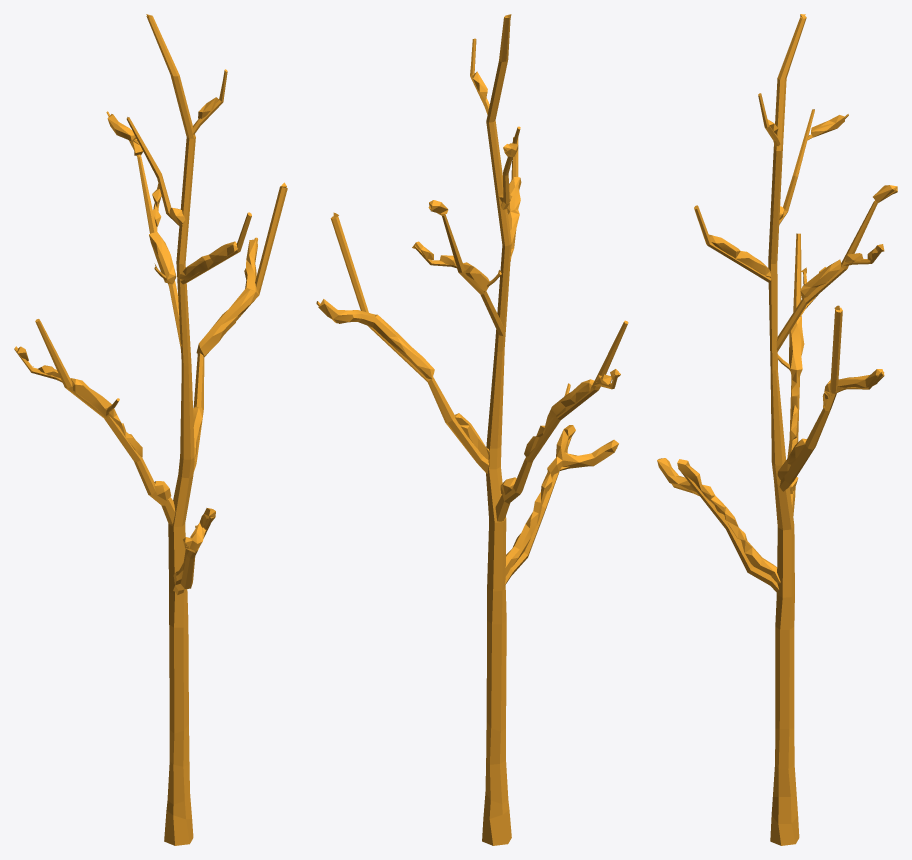
Rendered from SM_Tree_Poplar_Young_A_Bare_Snow.fbx.
3 views of the same model, side by side, from view 1: azimuth 30°, elevation 25°; view 2: azimuth 150°, elevation 25°; view 3: azimuth 270°, elevation 25° (orthographic). The views are drawn at different scales.
Visible parts, largest first — view 1: tree-poplar-young-a-bare-snow; view 2: tree-poplar-young-a-bare-snow; view 3: tree-poplar-young-a-bare-snow.
Part boxes in pixels (x1=…): tree-poplar-young-a-bare-snow: x1=14, y1=14, x2=287, y2=845; tree-poplar-young-a-bare-snow: x1=316, y1=14, x2=628, y2=845; tree-poplar-young-a-bare-snow: x1=657, y1=14, x2=897, y2=845.
Bounding box in the file's own units: 2.23 × 6.32 × 1.69.
